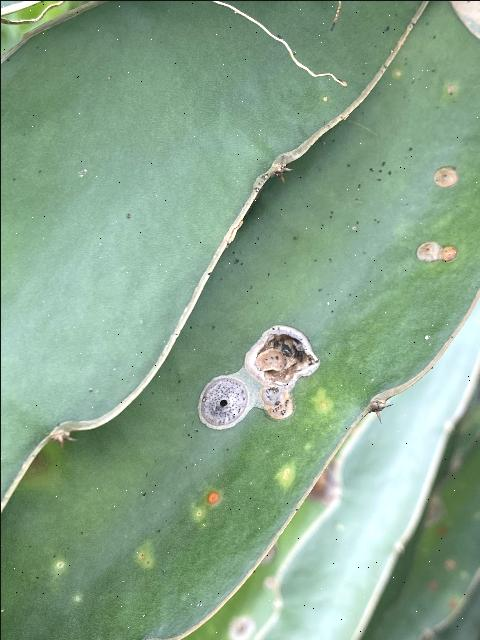stemcanker: (242, 323, 321, 421), (190, 371, 254, 433), (413, 240, 461, 263), (430, 163, 461, 190)
